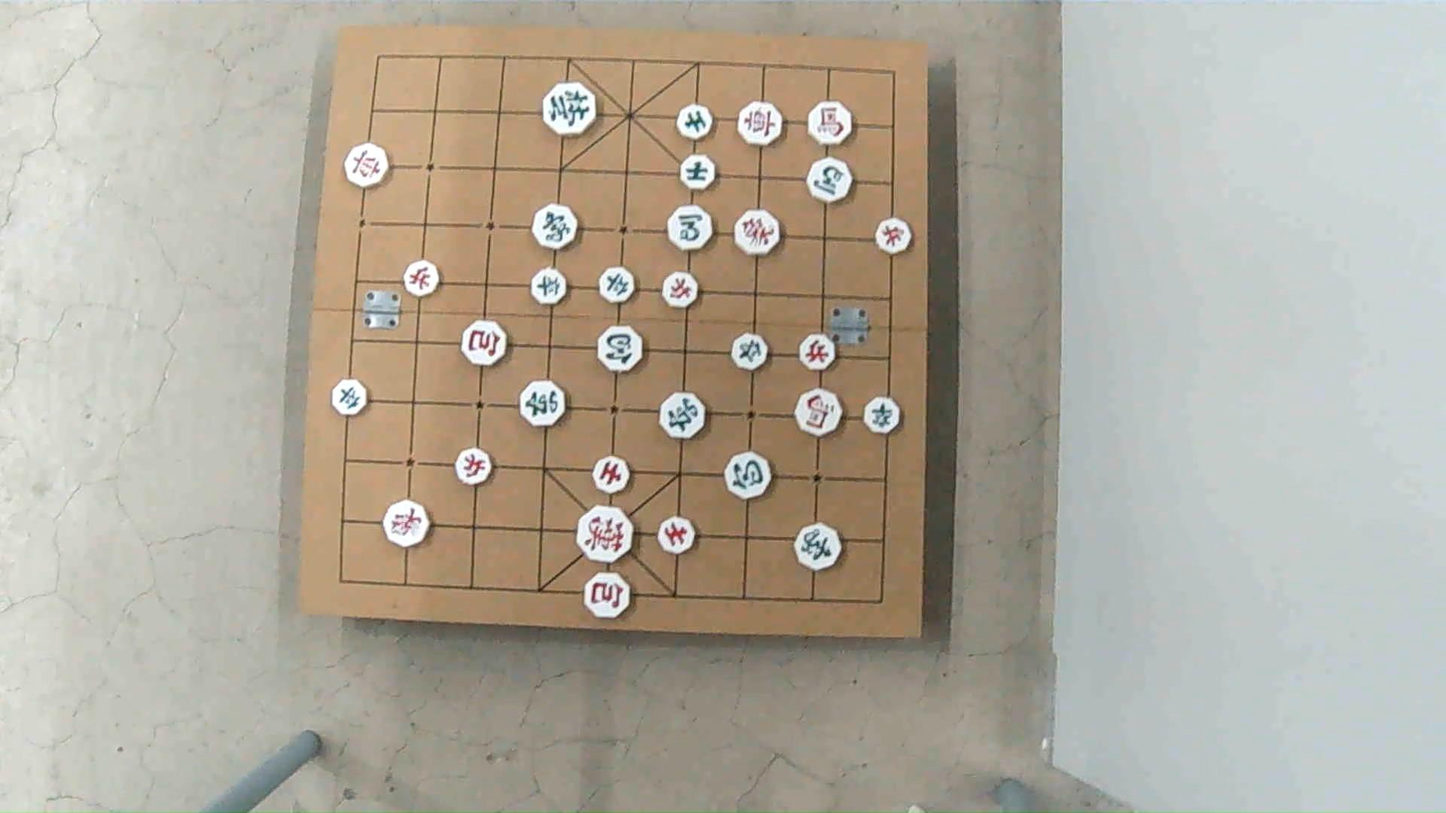cha_green: (520, 382, 568, 428), (660, 393, 706, 439)
cha_red: (343, 142, 389, 188), (740, 103, 786, 147)
jol_green: (331, 381, 368, 418), (863, 396, 900, 433), (731, 335, 767, 371), (527, 268, 563, 303), (602, 266, 637, 302)
jol_red: (456, 448, 493, 486), (404, 260, 441, 296), (874, 219, 910, 255), (801, 335, 837, 371), (665, 274, 701, 309)
ma_green: (806, 160, 851, 204), (667, 206, 712, 249)
ma_red: (795, 388, 842, 437), (805, 102, 850, 147)
po_green: (725, 452, 771, 498), (598, 327, 643, 373)
po_red: (586, 572, 632, 618), (462, 321, 507, 367)
sa_green: (679, 154, 715, 190), (676, 104, 712, 139)
sa_red: (656, 516, 694, 554), (591, 455, 629, 492)
sang_green: (794, 523, 841, 569), (532, 204, 578, 249)
sang_red: (382, 499, 430, 547), (735, 209, 781, 255)
wang_green: (541, 82, 595, 136)
wang_red: (578, 507, 633, 563)
